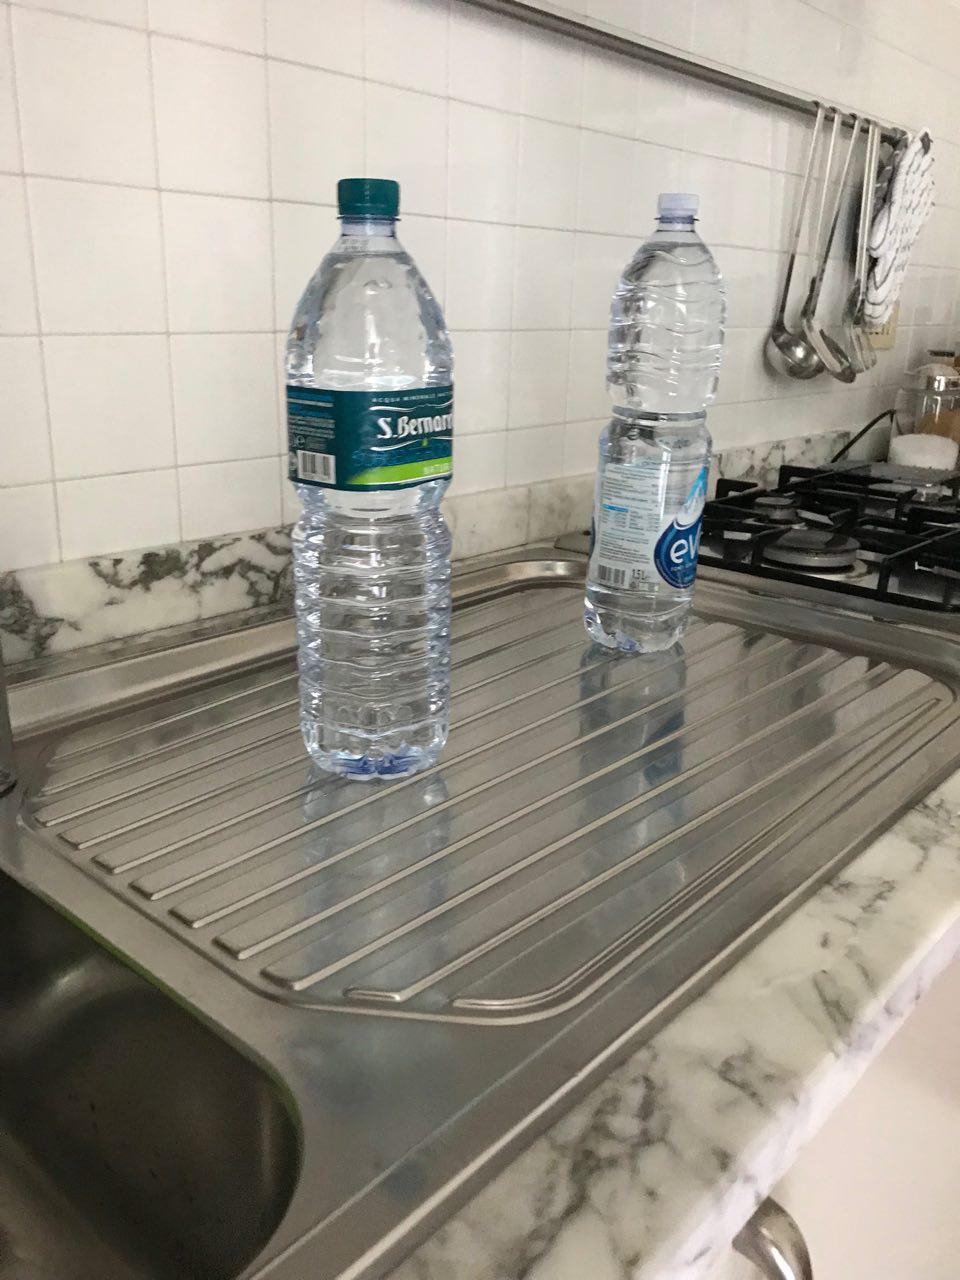san_bernardo: (284, 177, 455, 783)
